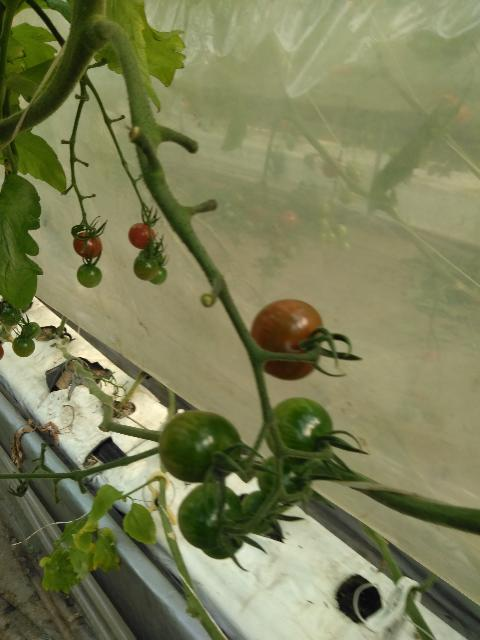l_fully_ripened: (73, 231, 102, 259), (128, 223, 155, 250)
l_green: (159, 410, 242, 482), (265, 396, 333, 465), (177, 483, 243, 550), (258, 455, 309, 503), (76, 264, 102, 289), (133, 256, 159, 280), (12, 335, 35, 357), (0, 306, 22, 326), (148, 266, 167, 285), (22, 322, 41, 339)
l_half_ripened: (251, 299, 324, 380)
